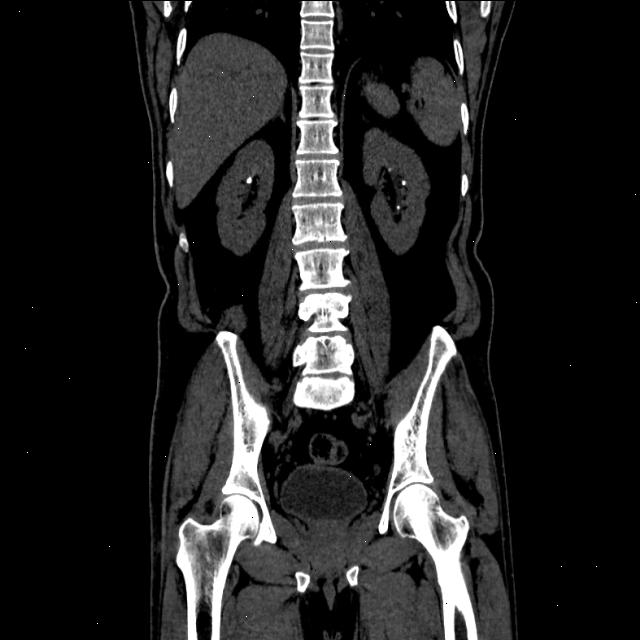kidneystone: (246, 176, 252, 183), (395, 204, 400, 211), (401, 179, 406, 186)
